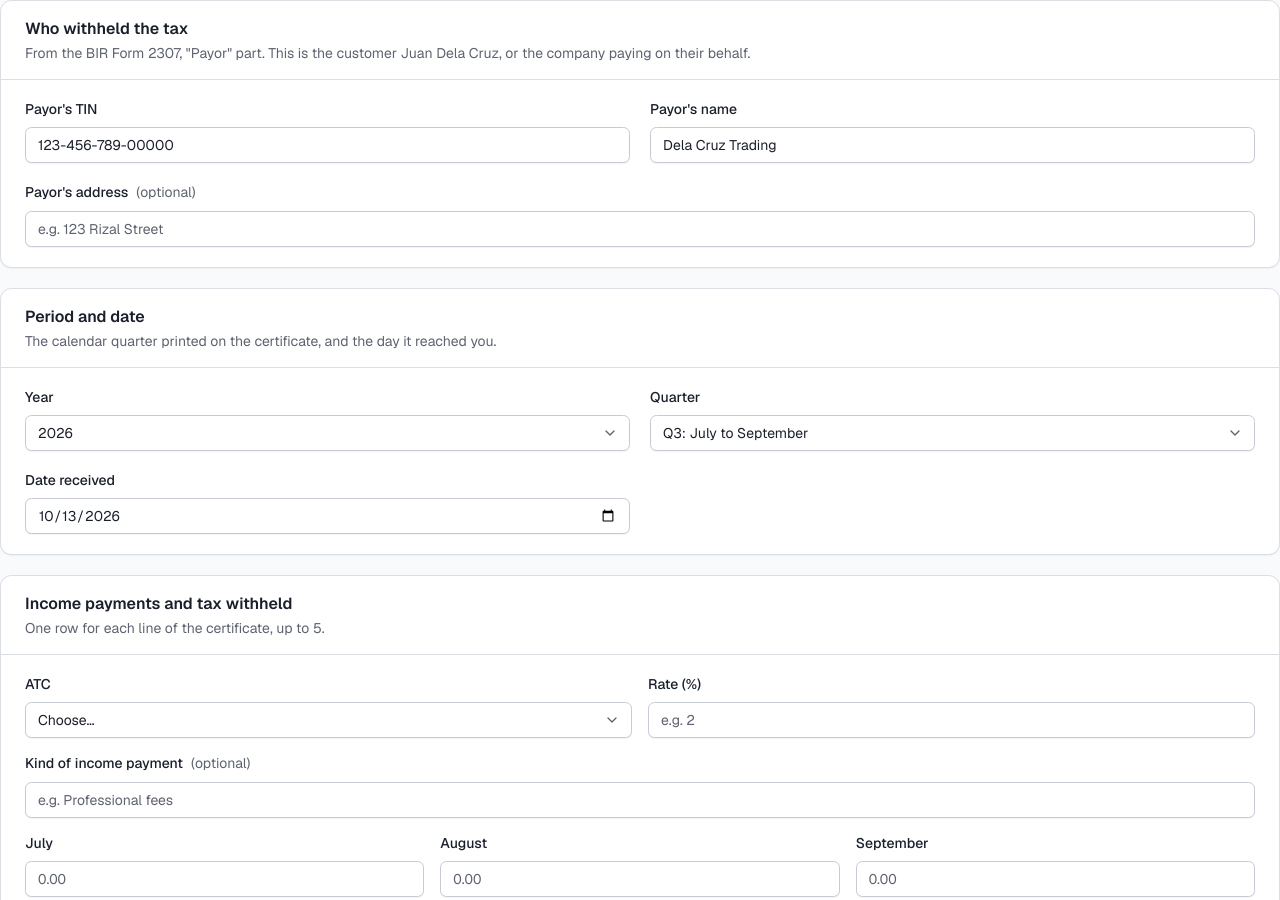
rows › fills the rate when an ATC is picked, and asks for the code and rate when it is Other
The width and height of the screenshot is (1280, 900).
expect the field labelled "ATC code" is not shown: met
Select "WI160 (2%)" in the dropdown labelled "ATC": (328, 720) [25, 702, 632, 738]
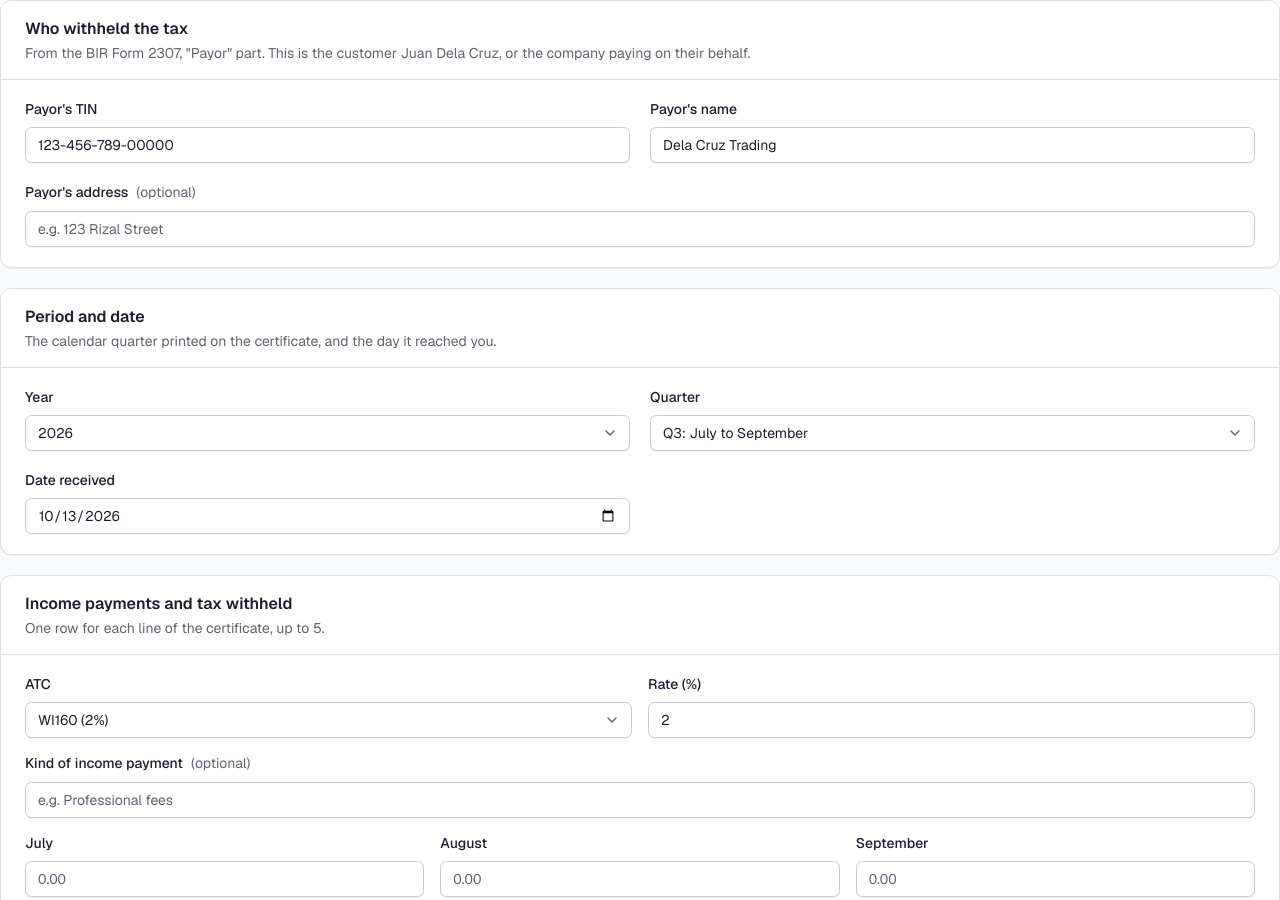
expect the field labelled "Rate (%)" holds "2": met, box [648, 702, 1255, 738]
Select "Other" in the dropdown labelled "ATC": (328, 720) [25, 702, 632, 738]
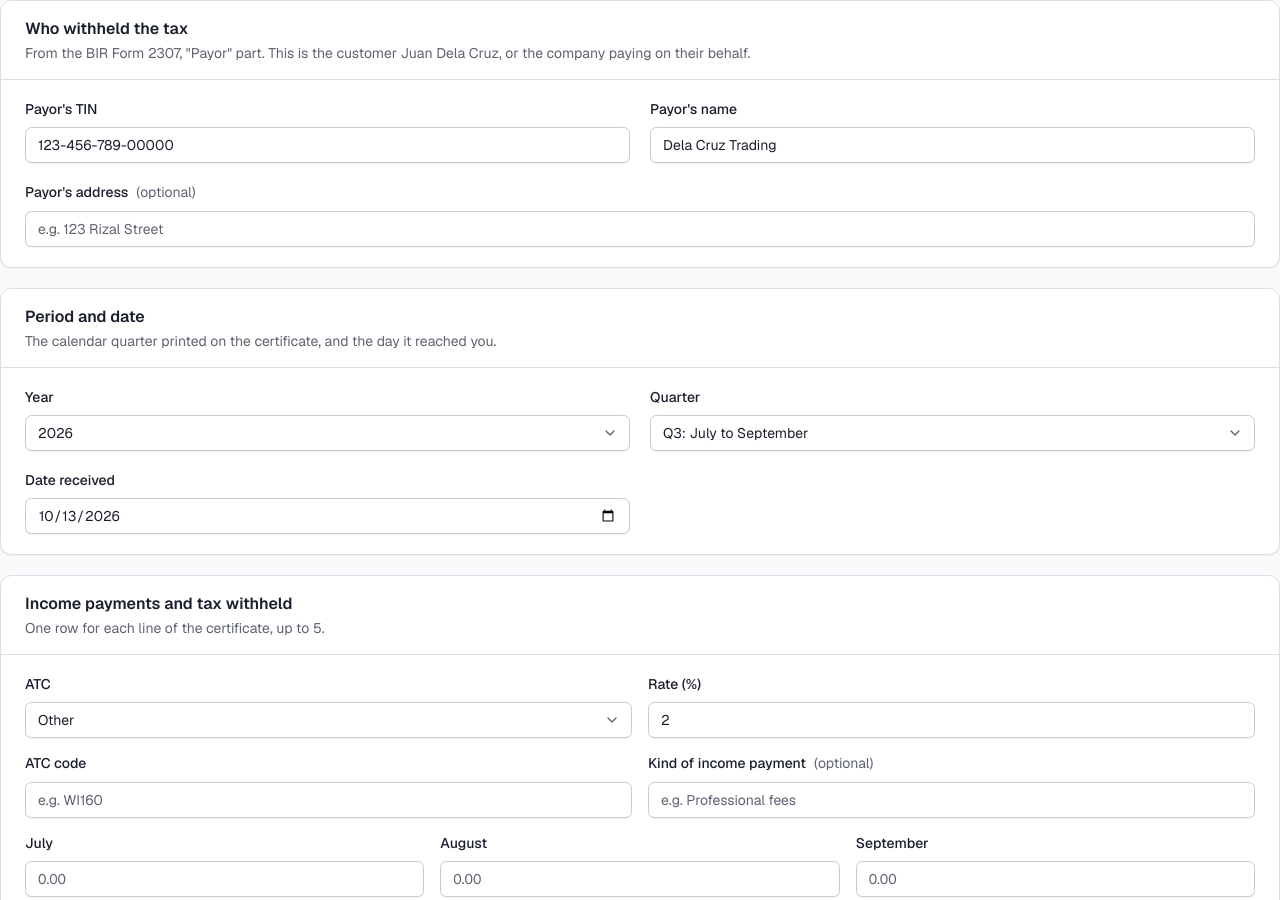
expect the field labelled "ATC code" is shown: met, box [25, 782, 632, 818]
